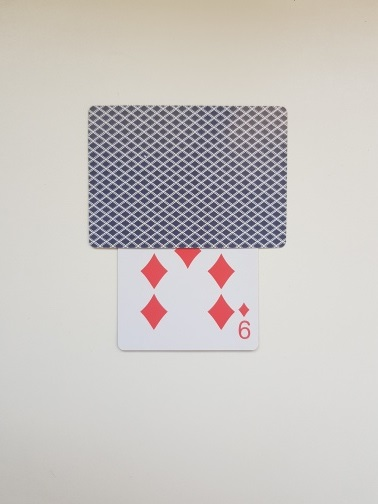nine: (116, 140, 261, 352)
